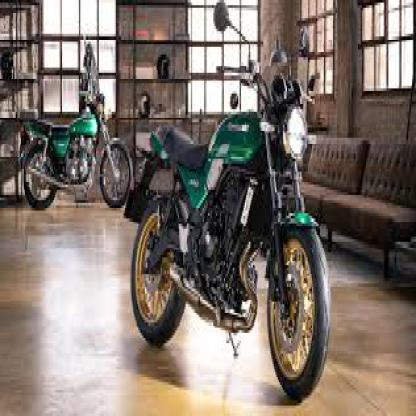Motorcycle: (123, 13, 332, 402), (18, 84, 138, 221)
